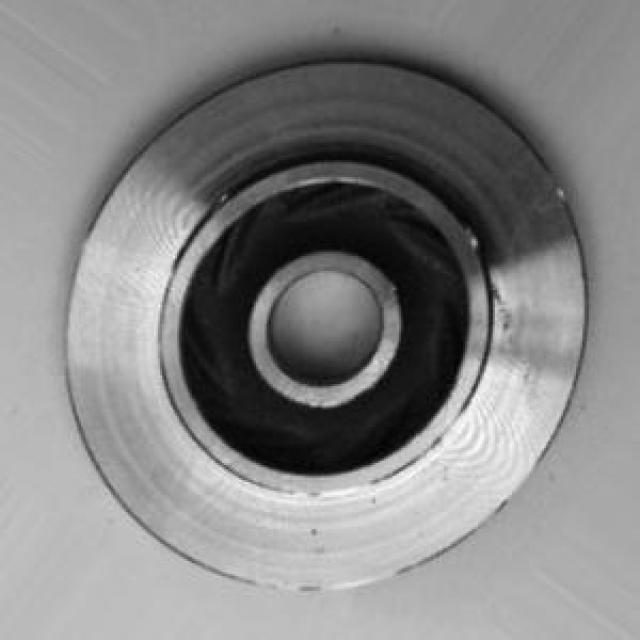Defect: (458, 221, 490, 262), (204, 182, 237, 212)
